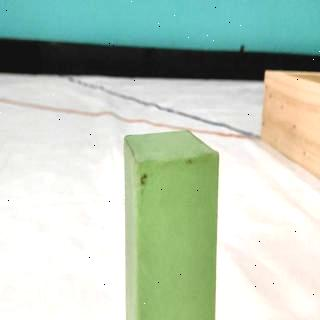greenbox: (120, 127, 222, 320)
